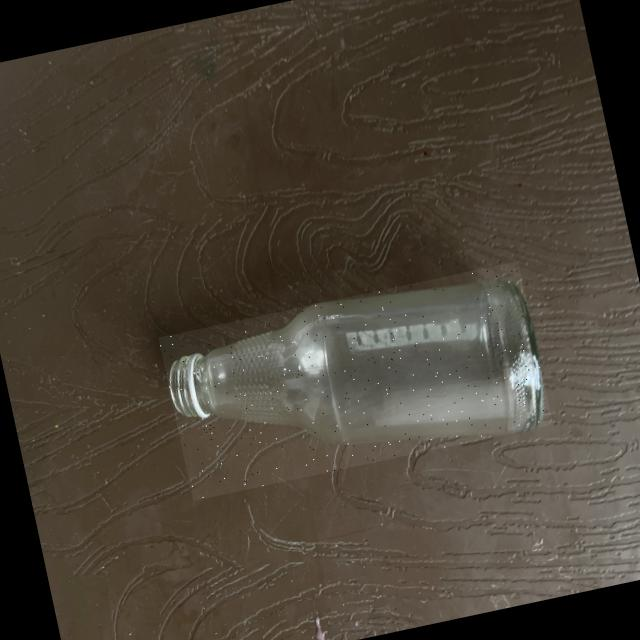Glass_Bottle: (170, 281, 543, 443)
